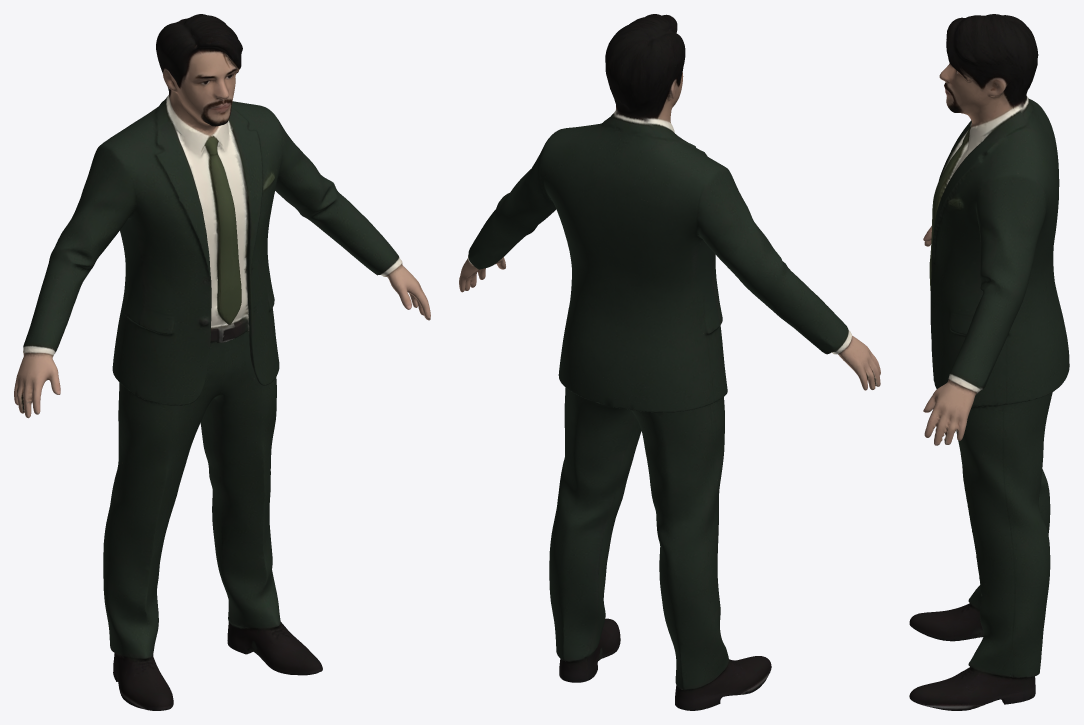
The model's file is el_fofon.glb.
3 renders of one model, left to right at view 1: azimuth 30°, elevation 25°; view 2: azimuth 150°, elevation 25°; view 3: azimuth 270°, elevation 25°, orthographic.
Size of the model in its own units: 1.24 by 1.9 by 0.4237.
1 material, 1 textured.
